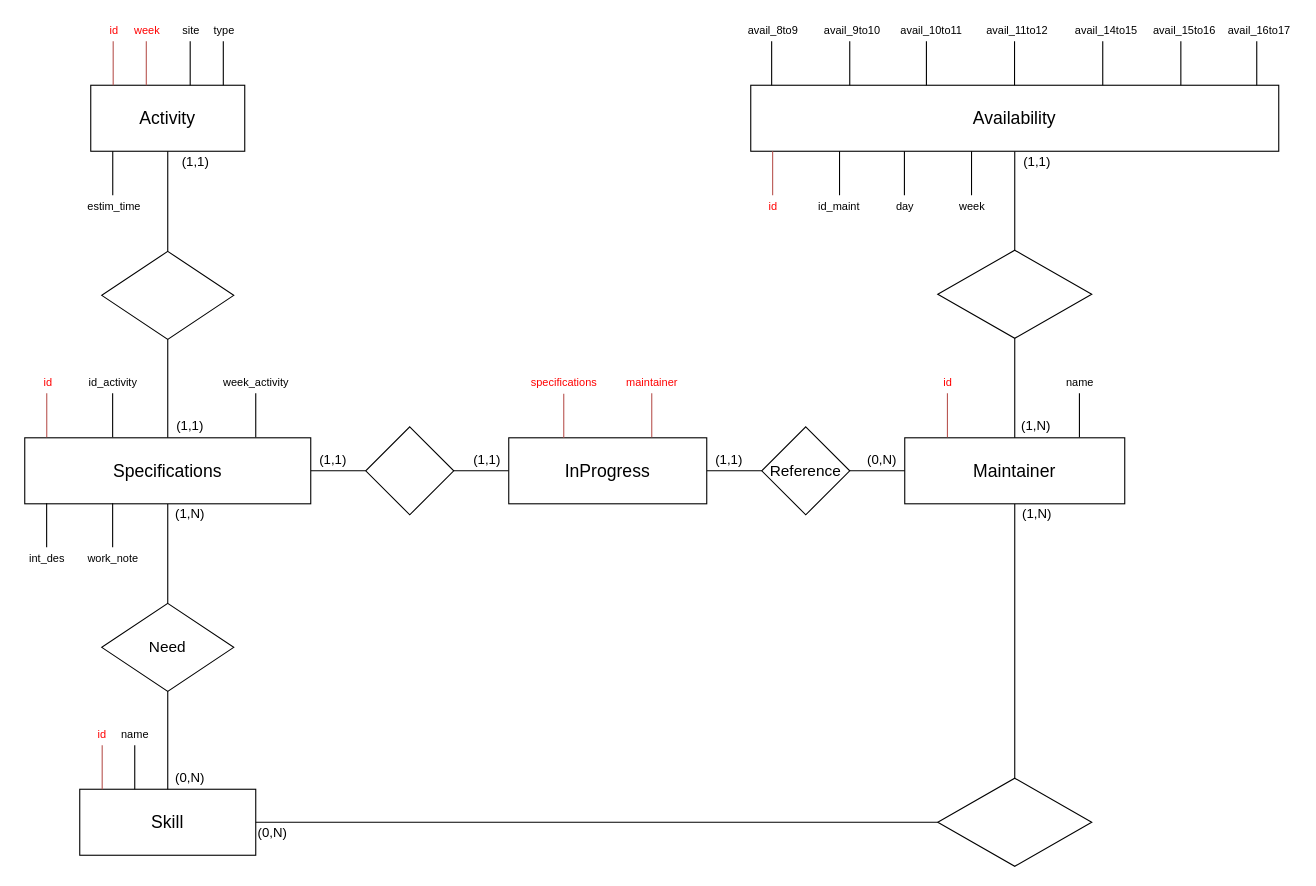
This 1316x886 diagram has some shape labels left out. Here are the shapes that lost their labels. From the top down, the box of each, then its label:
(101, 250, 234, 339): Inclusion
(937, 249, 1092, 338): Possibility
(365, 426, 454, 515): Which
(937, 777, 1092, 866): Capacity
